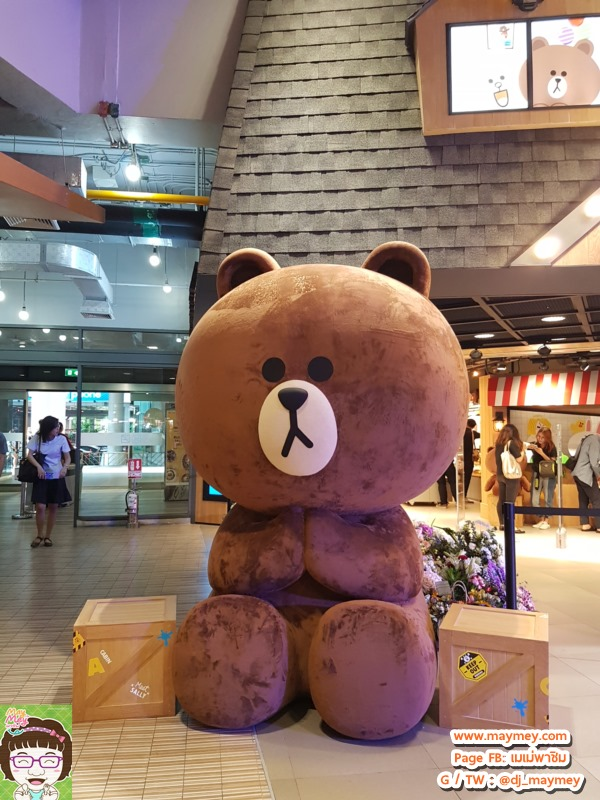line_brown: (162, 238, 476, 526), (514, 28, 600, 120)
